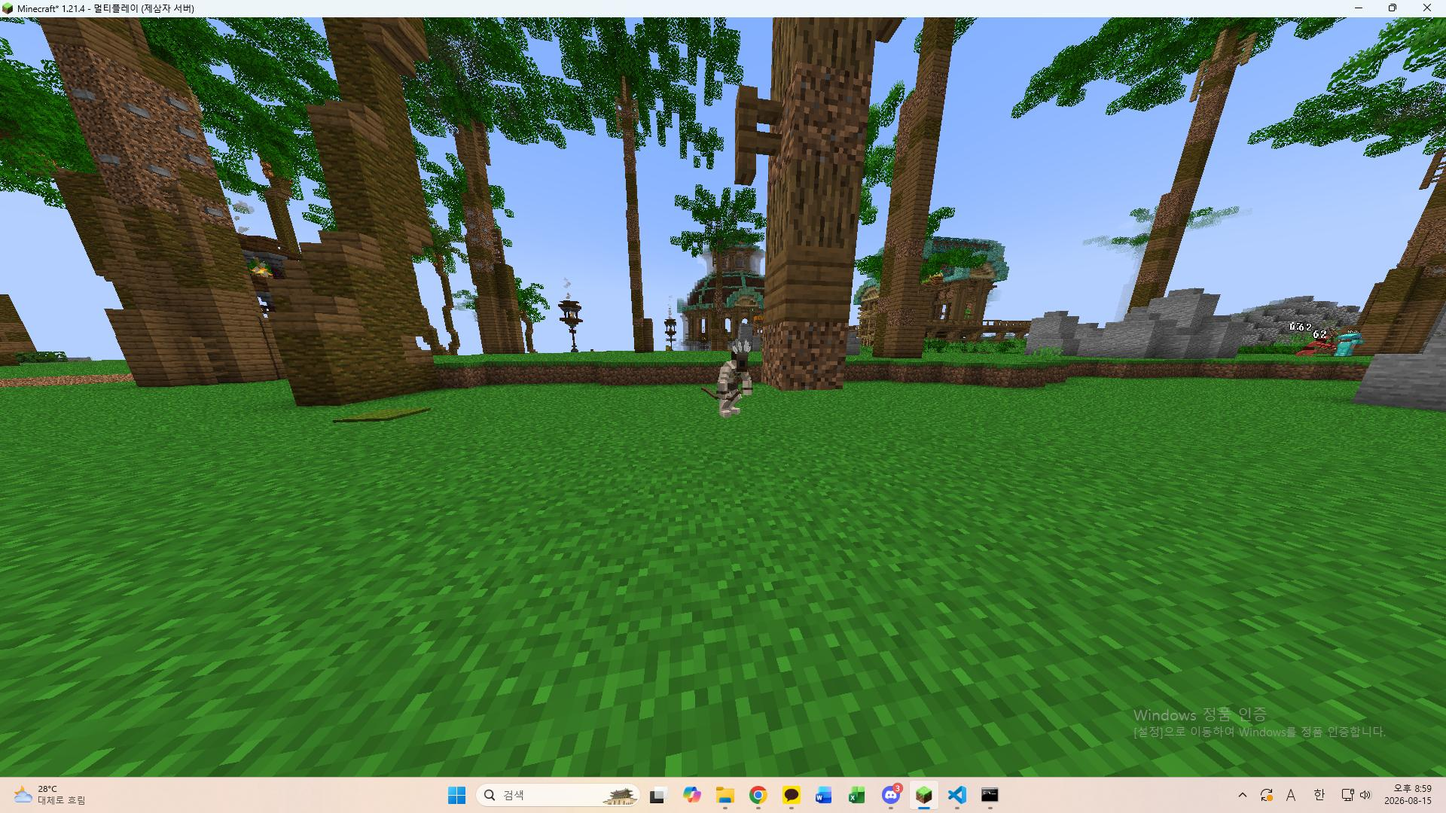bow_indian: (701, 337, 768, 420)
